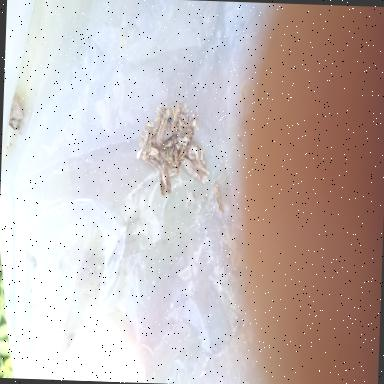pbw: (154, 107, 169, 148), (185, 154, 210, 176), (177, 128, 194, 160), (181, 158, 202, 182), (158, 162, 171, 197), (212, 180, 224, 214), (170, 103, 182, 134), (160, 134, 178, 149), (145, 130, 152, 163), (142, 146, 159, 156), (168, 166, 180, 178), (172, 148, 180, 166), (148, 155, 158, 167), (150, 124, 156, 138), (156, 154, 166, 162), (138, 155, 148, 160)
